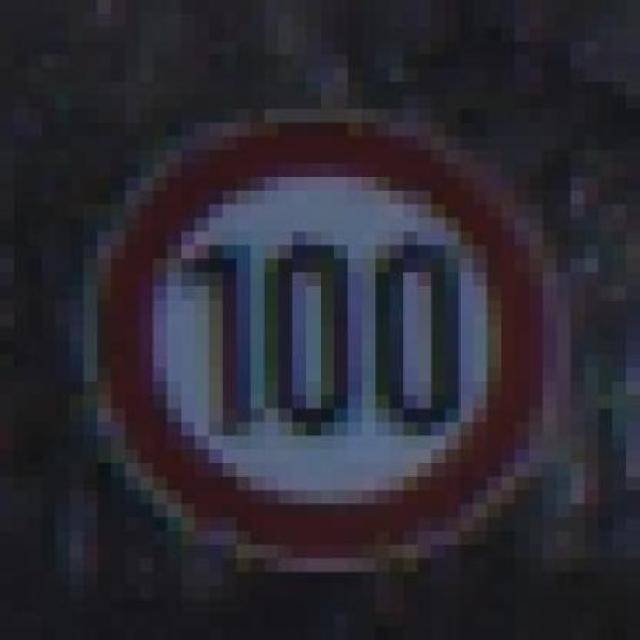forb_speed_over_100: (100, 116, 549, 561)
